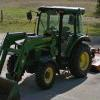Tractor: (10, 2, 96, 88)
